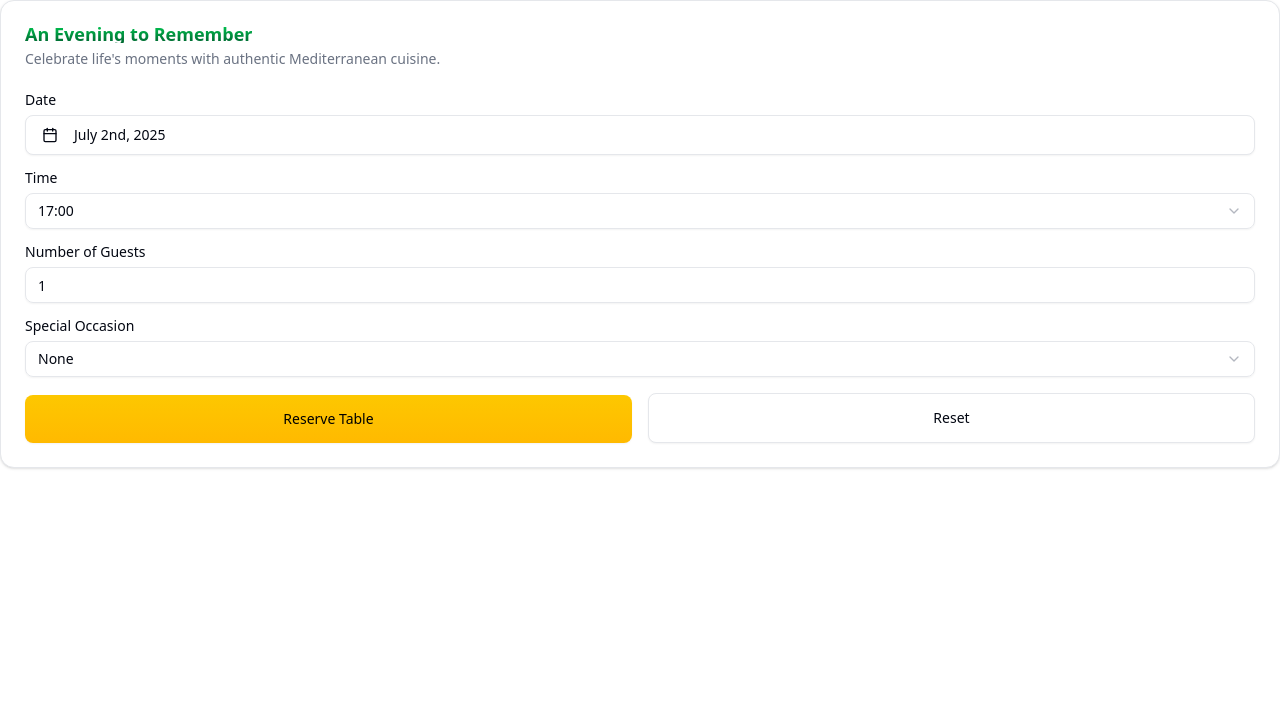
ReservationForm › shows validation errors for empty required fields
Clear the number field labelled "Number of Guests": (640, 285) [25,267,1255,303]
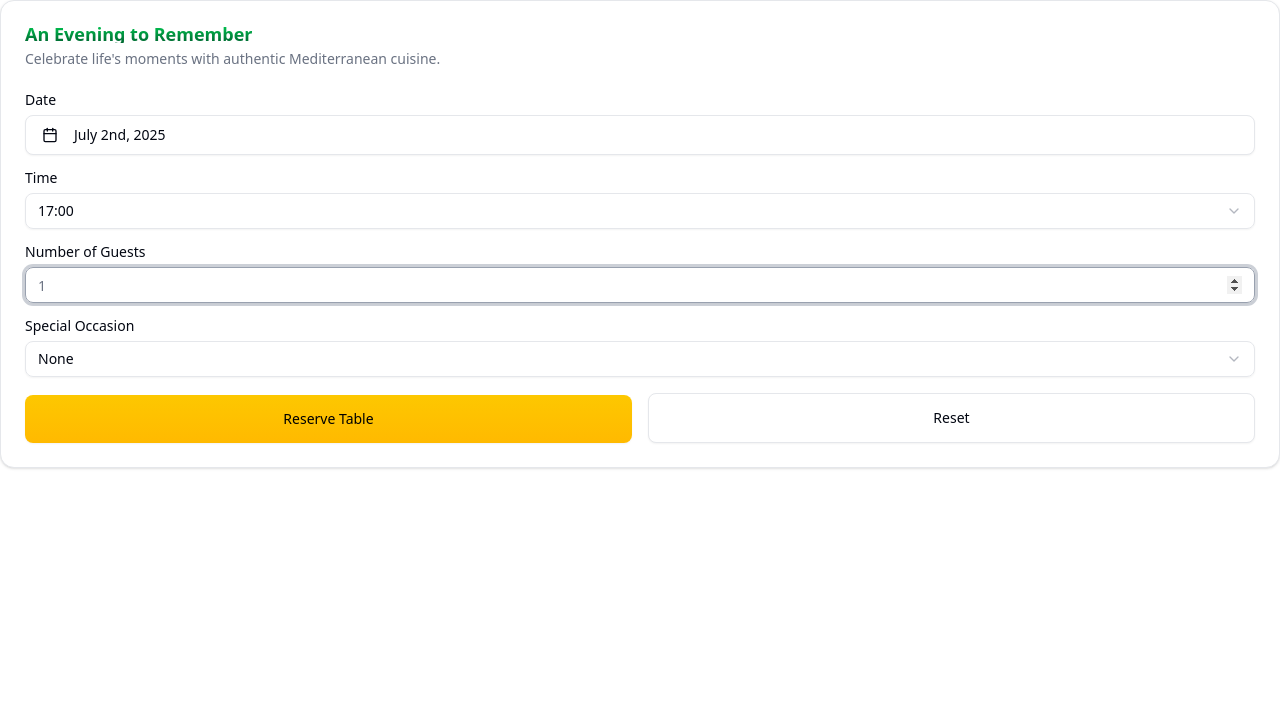
Submit the form, box [25,93,1255,443]
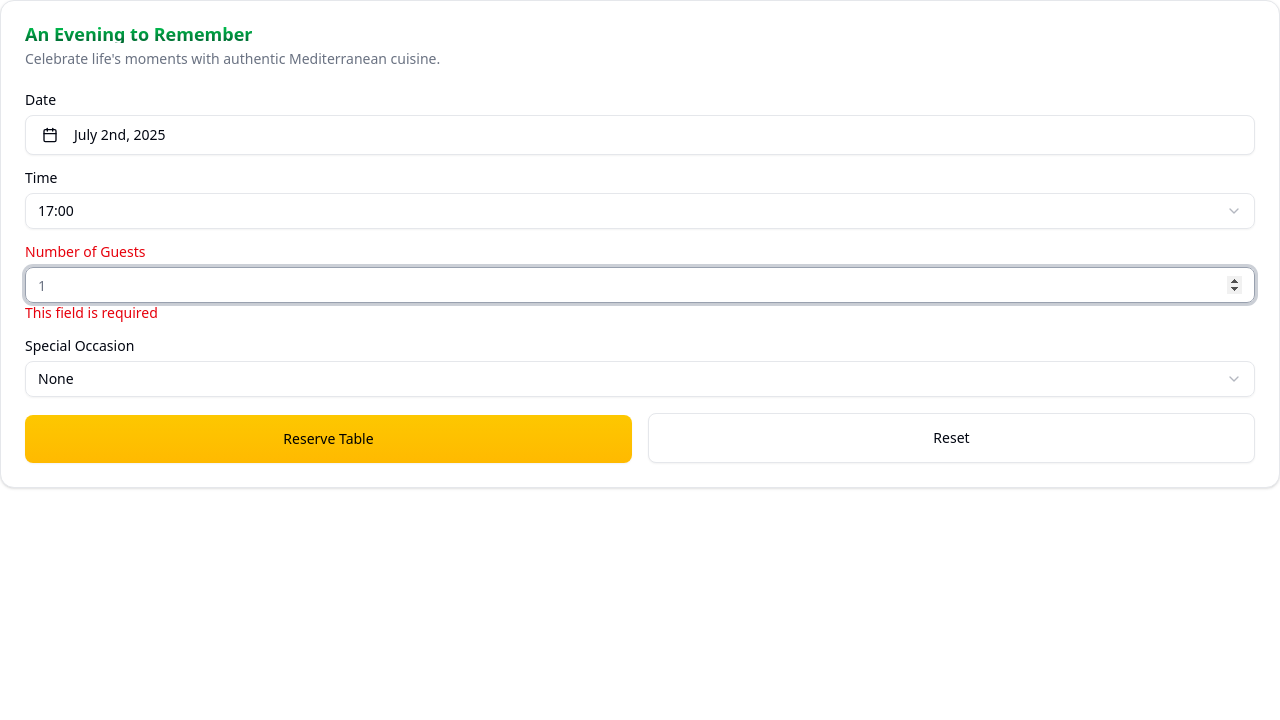
Expected: the text "This field is required" is shown, [25,303,158,322]
